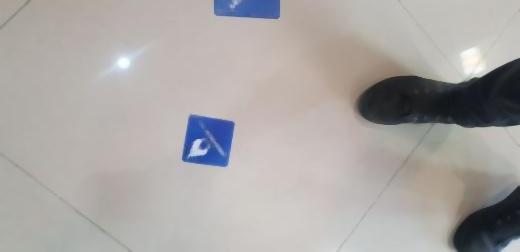dangerous-when-wet: (182, 115, 236, 167)
